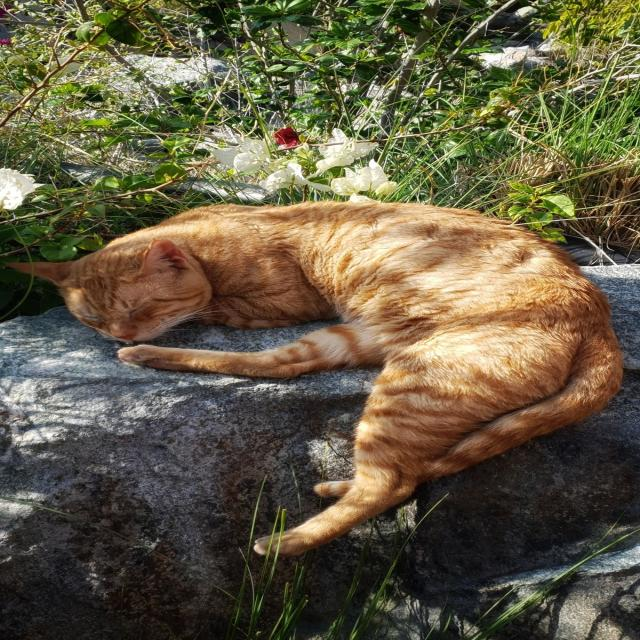sarman: (0, 133, 640, 628)
